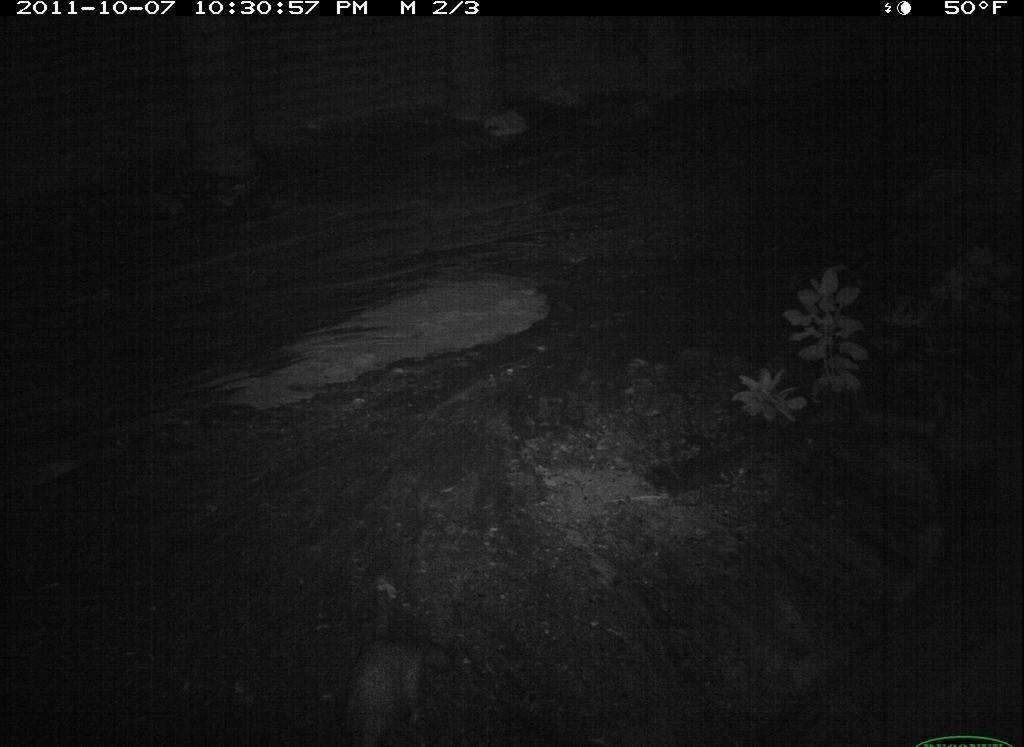raccoon: (336, 628, 461, 743)
